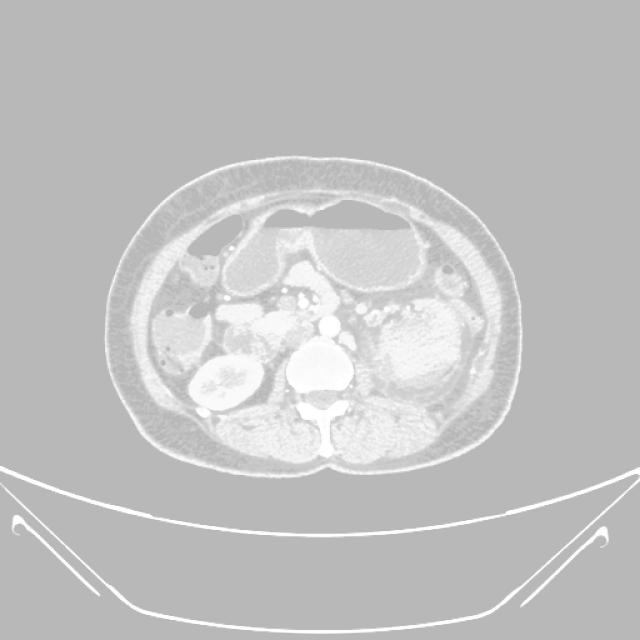TUMOR: (193, 198, 465, 392)
